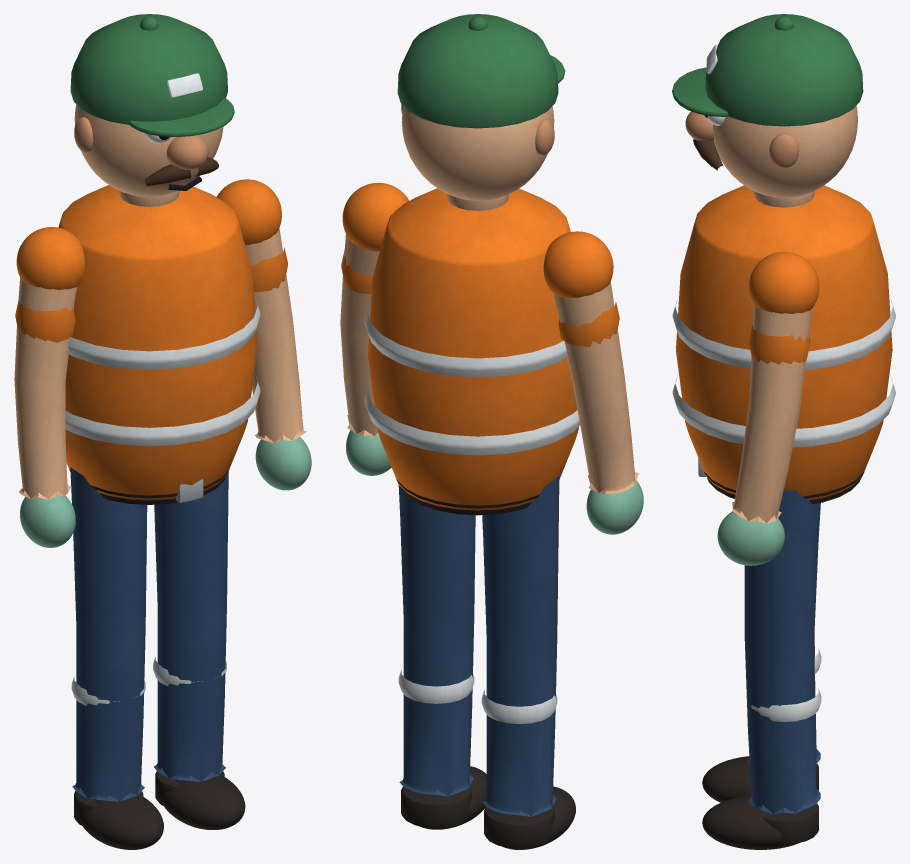
The model's file is basurero.gltf.
3 views of the same model, side by side, from view 1: azimuth 30°, elevation 25°; view 2: azimuth 150°, elevation 25°; view 3: azimuth 270°, elevation 25° (orthographic). The views are drawn at different scales.
Visible parts, largest first — view 1: basurero, pierna_izq, pierna_der, brazo_izq, brazo_der; view 2: basurero, pierna_izq, pierna_der, brazo_izq, brazo_der; view 3: basurero, pierna_der, brazo_der, pierna_izq.
Boxes of the visible parts, bbox=[...] form: basurero: bbox=[58, 14, 260, 504]; pierna_izq: bbox=[70, 467, 163, 849]; pierna_der: bbox=[153, 472, 245, 829]; brazo_izq: bbox=[14, 227, 84, 547]; brazo_der: bbox=[216, 179, 311, 490]; basurero: bbox=[364, 14, 579, 515]; pierna_izq: bbox=[481, 475, 575, 849]; pierna_der: bbox=[398, 485, 486, 829]; brazo_izq: bbox=[543, 231, 643, 534]; brazo_der: bbox=[340, 183, 409, 475]; basurero: bbox=[672, 14, 895, 504]; pierna_der: bbox=[702, 490, 821, 849]; brazo_der: bbox=[717, 251, 819, 565]; pierna_izq: bbox=[702, 633, 821, 802].
Bounding box in the file's own units: 0.6933 × 1.89 × 0.4751.
12 materials, 10 textured.
